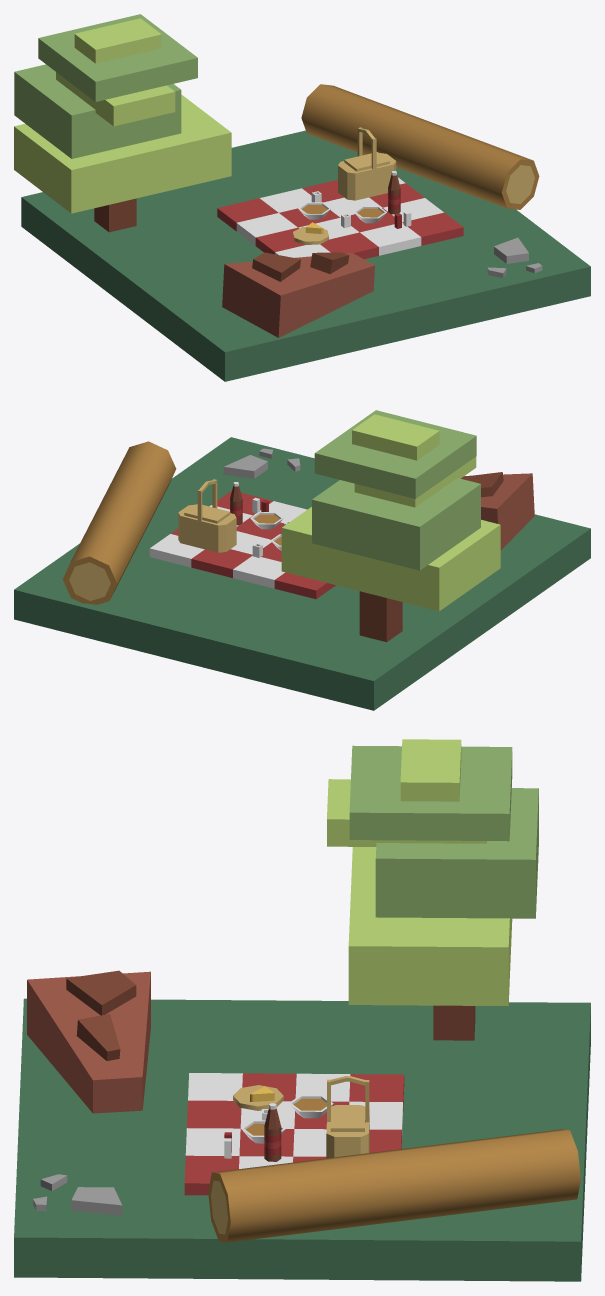
Rendered from picnic.glb.
The picture shows the model from 3 angles, top to bottom: view 1: azimuth 30°, elevation 25°; view 2: azimuth 150°, elevation 25°; view 3: azimuth 270°, elevation 25°; orthographic projection. The views are drawn at different scales.
Visible parts, largest first — view 1: cesped, arbol04, tronco01_mm_0, mantel00, rocas02, arbol00, arbol02, arbol03, cosas_picnic01_crema_0, arbol01, tronco00, rocas01 (+4 smaller); view 2: cesped, arbol00, arbol04, tronco01_mm_0, arbol02, mantel00, cosas_picnic01_crema_0, arbol03, rocas02, tronco00, tronco01_crema_0, arbol01 (+3 smaller); view 3: cesped, tronco01_mm_0, arbol04, mantel00, arbol00, arbol02, rocas02, arbol03, cosas_picnic01_crema_0, arbol01, rocas01, tronco00 (+5 smaller).
Part boxes in pixels (left/top/right/bottom): cesped: left=21, top=130, right=590, bottom=381; arbol04: left=14, top=94, right=231, bottom=213; tronco01_mm_0: left=301, top=84, right=539, bottom=209; mantel00: left=217, top=177, right=463, bottom=259; rocas02: left=222, top=253, right=374, bottom=337; arbol00: left=14, top=64, right=181, bottom=158; arbol02: left=38, top=14, right=197, bottom=101; arbol03: left=74, top=18, right=161, bottom=63; cosas_picnic01_crema_0: left=338, top=127, right=396, bottom=200; arbol01: left=56, top=72, right=175, bottom=126; tronco00: left=94, top=198, right=136, bottom=232; rocas01: left=252, top=252, right=300, bottom=281; cesped: left=14, top=437, right=590, bottom=710; arbol00: left=312, top=478, right=480, bottom=570; arbol04: left=281, top=507, right=500, bottom=611; tronco01_mm_0: left=62, top=441, right=176, bottom=604; arbol02: left=314, top=410, right=476, bottom=498; mantel00: left=149, top=491, right=335, bottom=599; cosas_picnic01_crema_0: left=178, top=479, right=236, bottom=552; arbol03: left=352, top=414, right=439, bottom=460; rocas02: left=464, top=473, right=534, bottom=550; tronco00: left=359, top=591, right=402, bottom=642; tronco01_crema_0: left=69, top=562, right=110, bottom=600; arbol01: left=354, top=456, right=476, bottom=507; cesped: left=14, top=998, right=590, bottom=1281; tronco01_mm_0: left=208, top=1129, right=580, bottom=1242; arbol04: left=348, top=847, right=512, bottom=1006; mantel00: left=184, top=1073, right=404, bottom=1195; arbol00: left=375, top=788, right=538, bottom=918; arbol02: left=349, top=745, right=512, bottom=841; rocas02: left=27, top=971, right=150, bottom=1113; arbol03: left=400, top=739, right=461, bottom=801; cosas_picnic01_crema_0: left=326, top=1076, right=369, bottom=1158; arbol01: left=327, top=779, right=486, bottom=846; rocas01: left=66, top=970, right=136, bottom=1015; tronco00: left=433, top=1005, right=475, bottom=1040.
Size of the model in its own units: 164 by 83.95 by 143.
